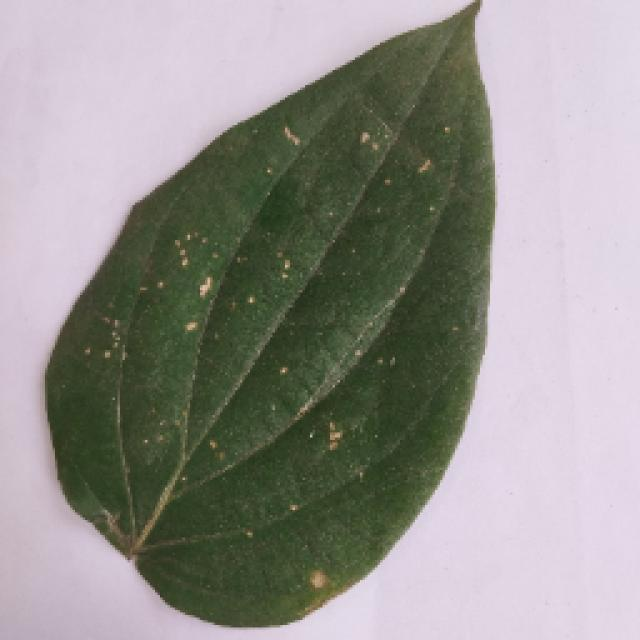pollu-disease: (15, 18, 600, 630)
